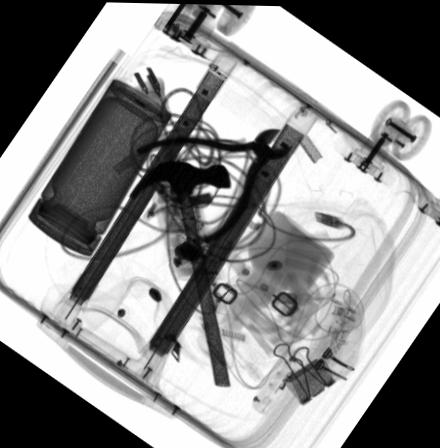Hammer: (128, 157, 231, 385)
Pliers: (135, 127, 292, 243)
